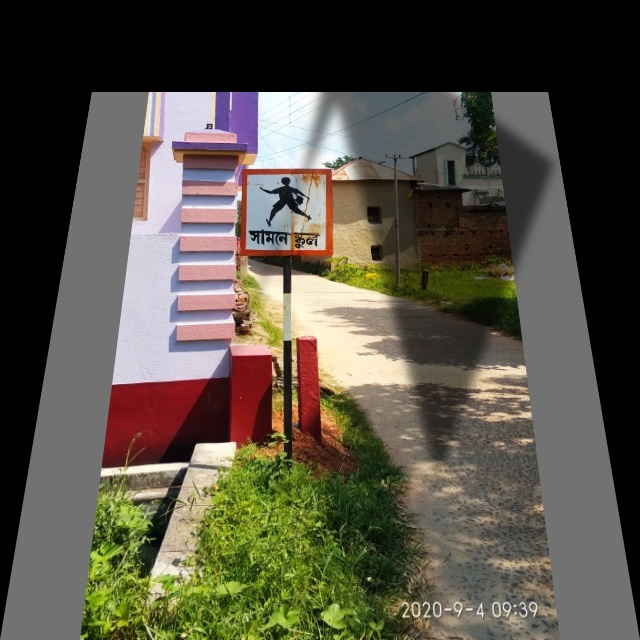School_Ahead: (243, 169, 331, 252)
